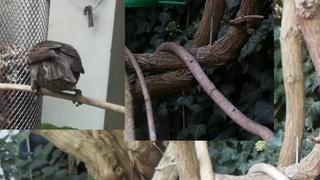starling: (29, 40, 85, 108)
